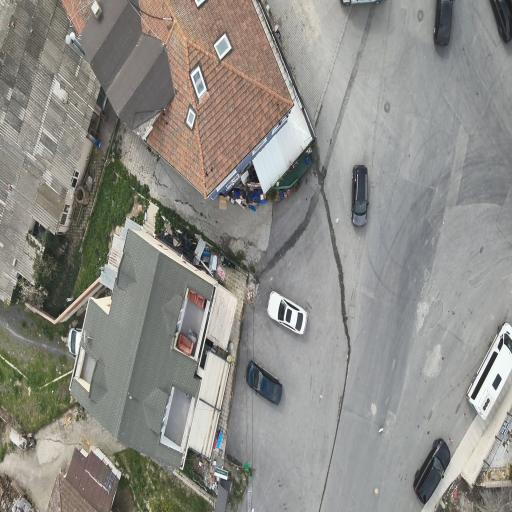car: (467, 323, 512, 419), (414, 439, 450, 503), (268, 292, 307, 334), (247, 362, 282, 404), (352, 165, 368, 226), (491, 0, 511, 43), (434, 0, 452, 45), (68, 328, 81, 356)
